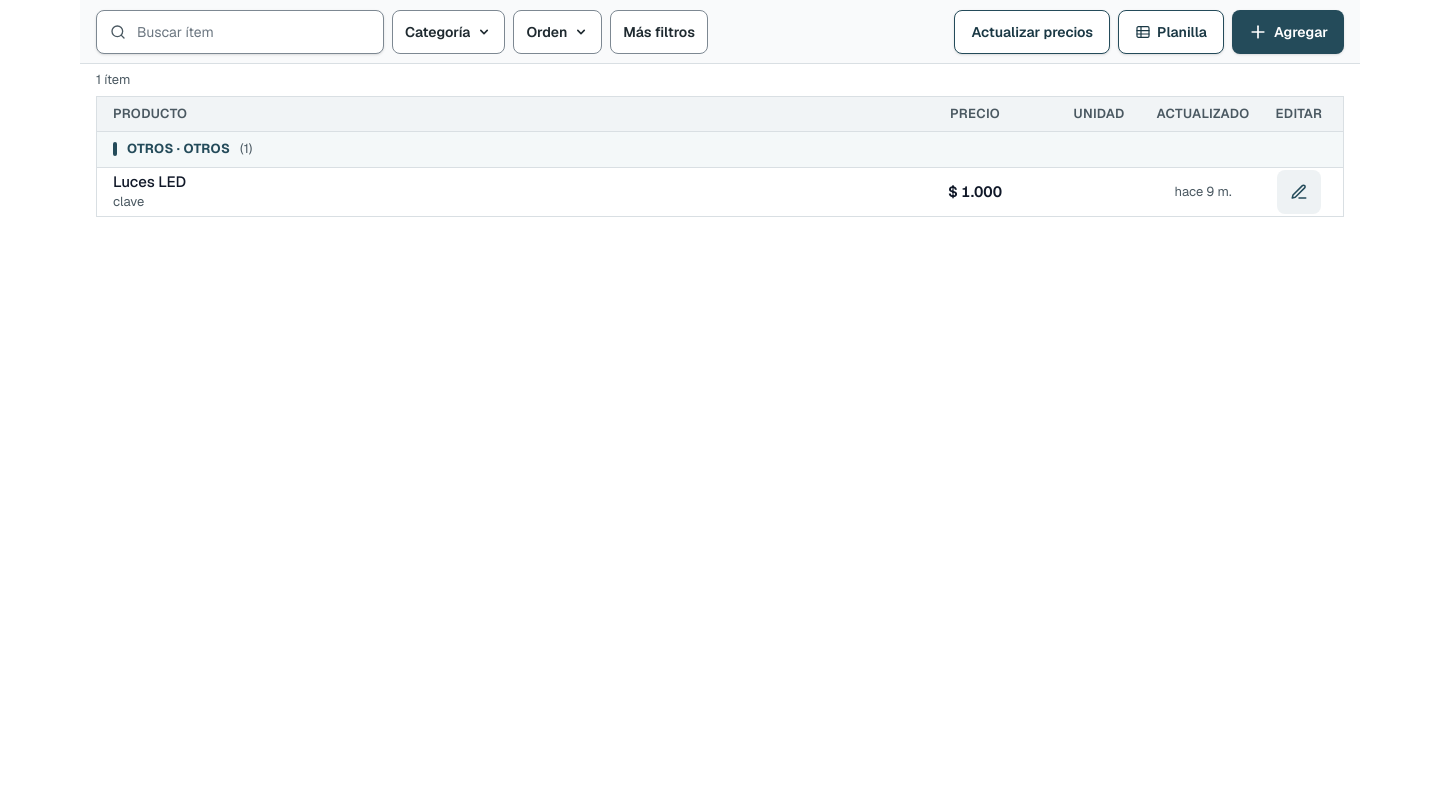
Test: CatalogoPage · alta de un ítem nuevo › crear un ítem lo agrega al listado con feedback de éxito
The image size is (1440, 810).
Step 1. Click the button with aria-label "Agregar ítem" → (1288, 32), box [1232, 10, 1344, 54]
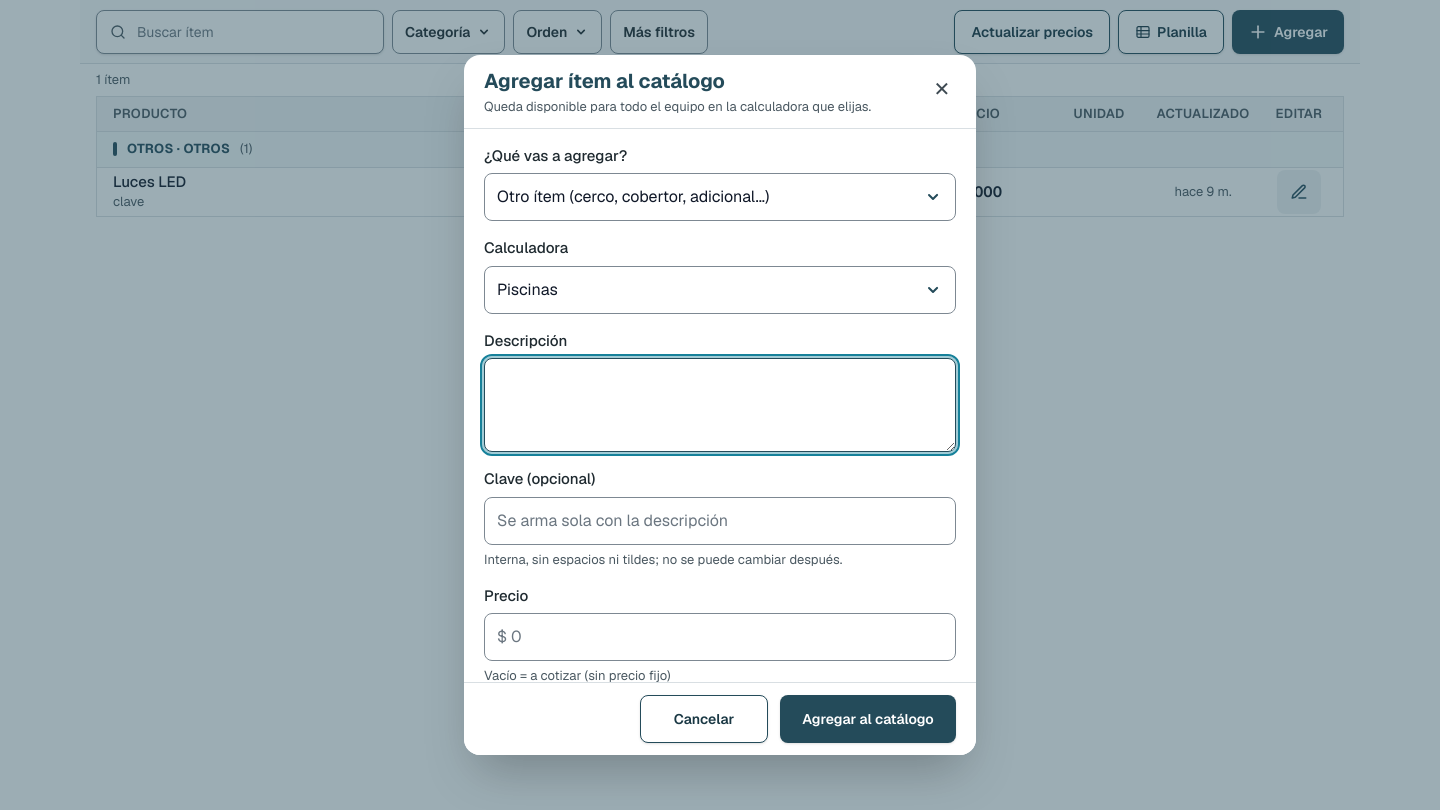
Step 2. Type "Cerco Reforzado" into the field labelled "Clave (opcional)" → (720, 521), box [484, 497, 956, 545]
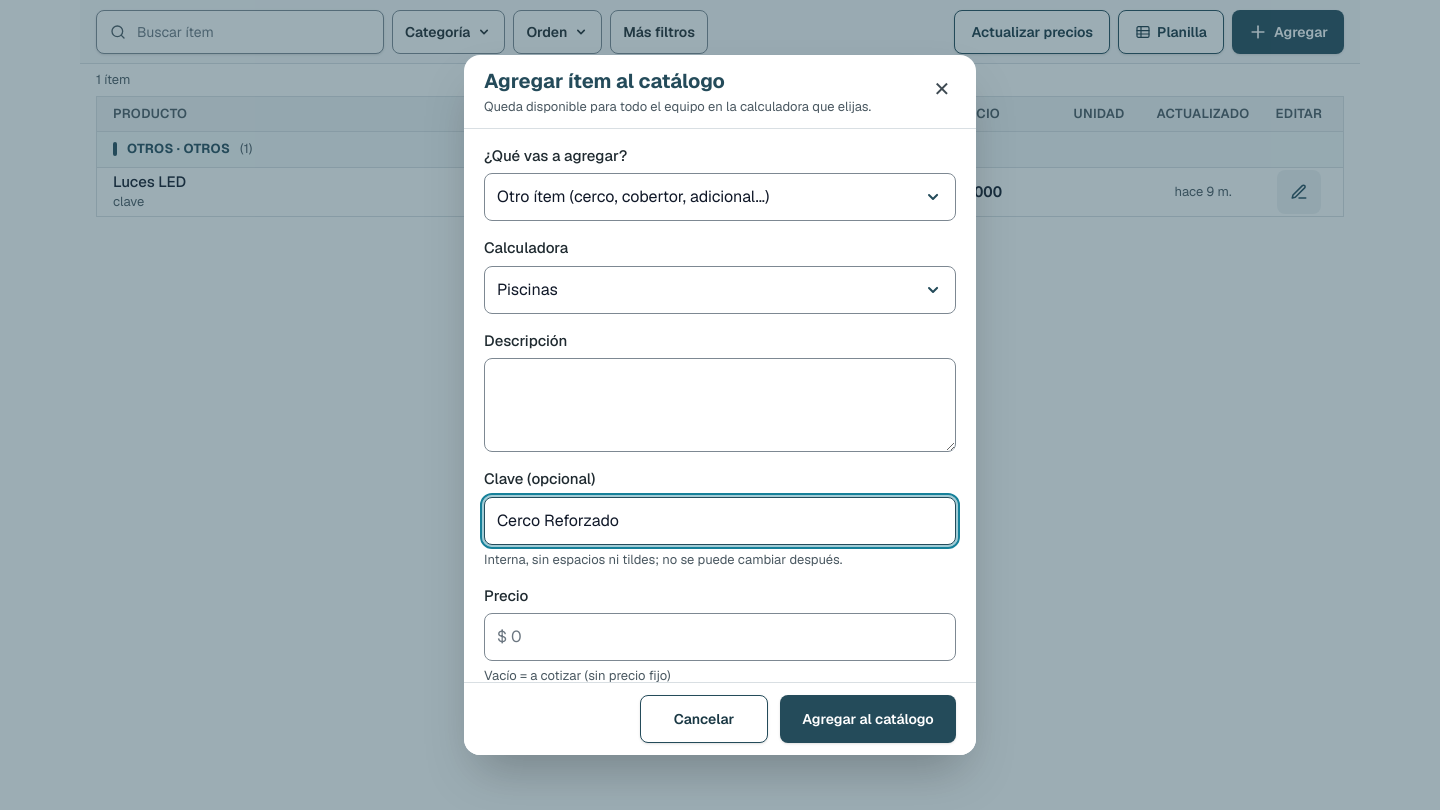
Step 3. Type "Cerco reforzado" into the text box labelled "Descripción" → (720, 405), box [484, 358, 956, 452]
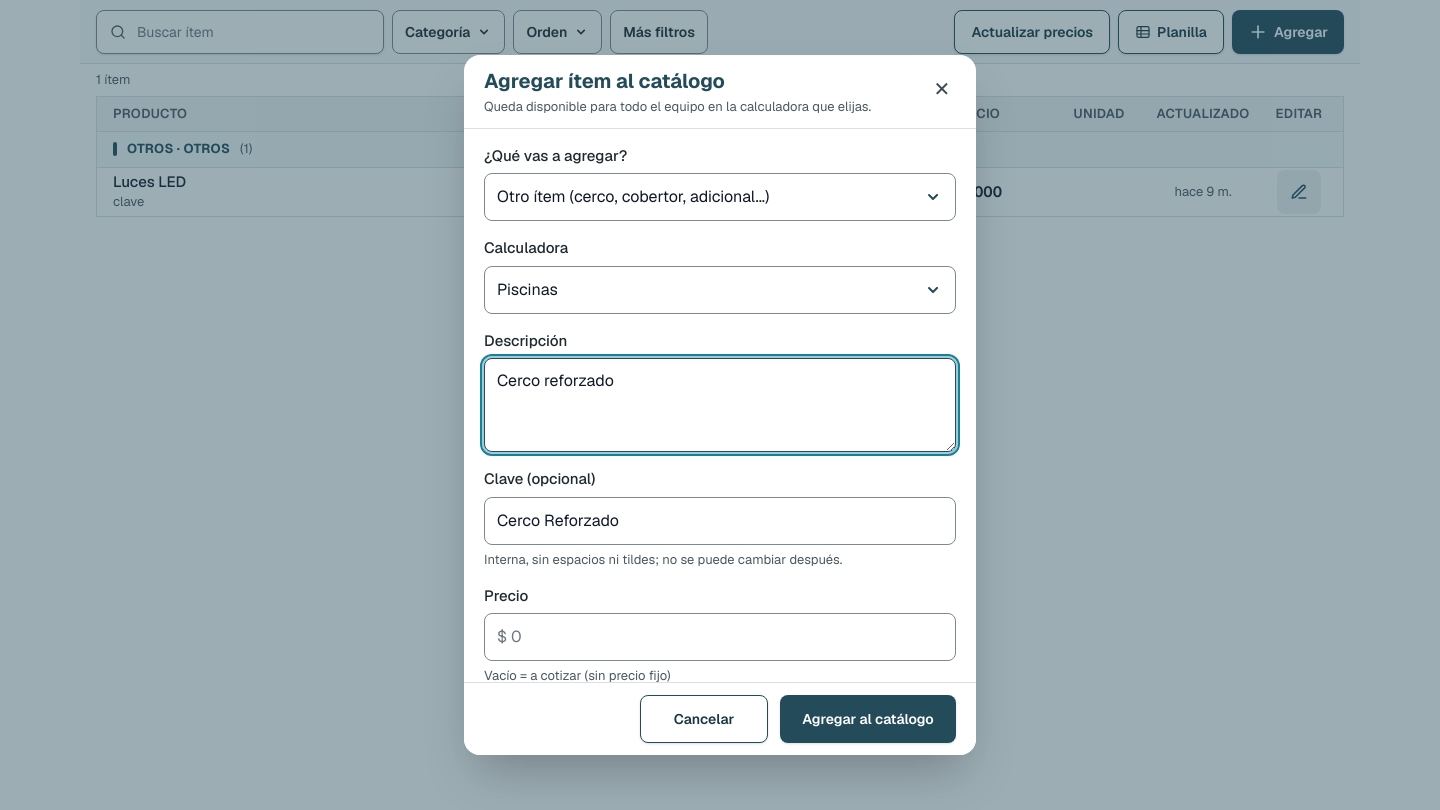
Step 4. Click the button "Agregar al catálogo" → (868, 719), box [780, 695, 956, 743]
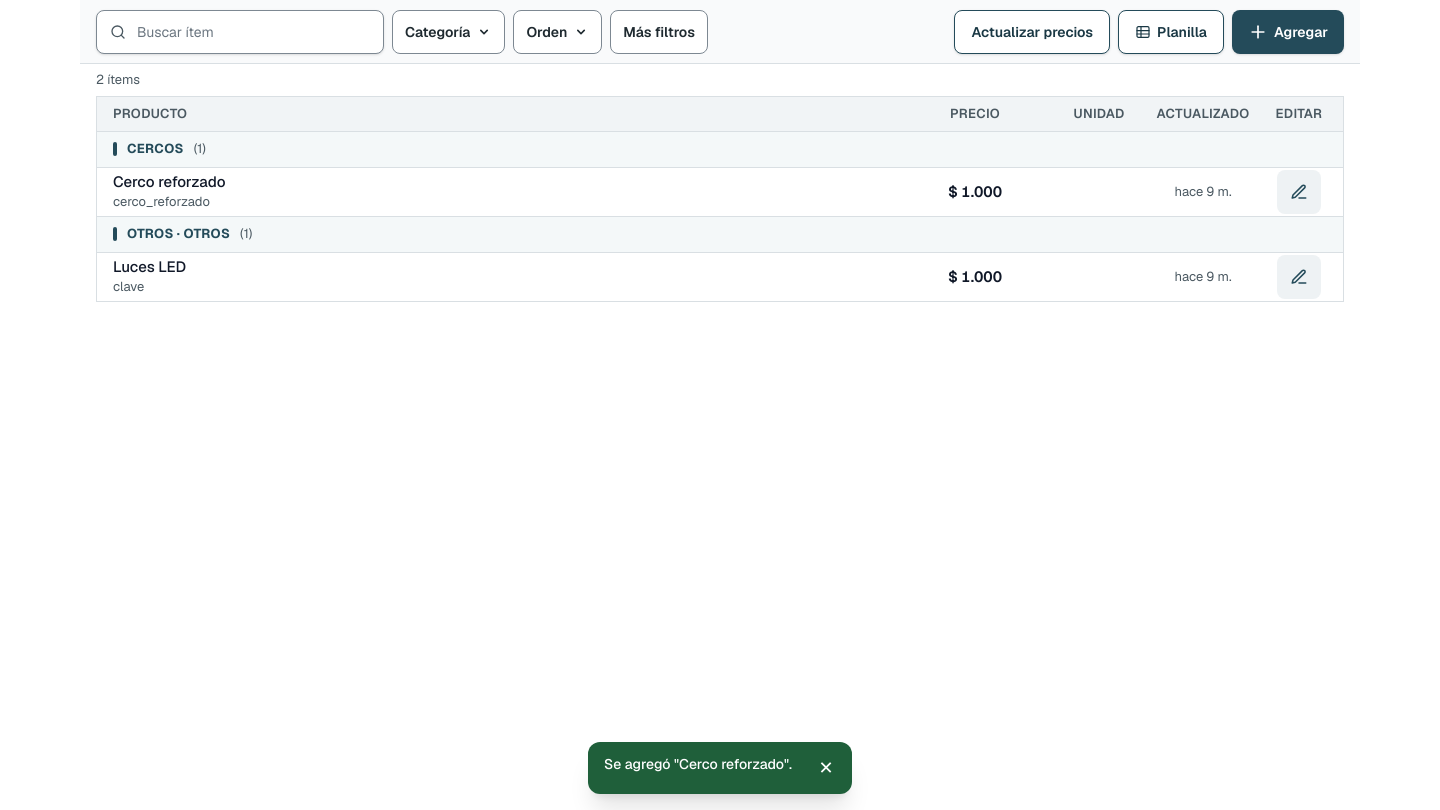
Now the dialog is gone
Now the text "Cerco reforzado" is shown, box [113, 172, 226, 190]
Now the text "Se agregó \"Cerco reforzado\"." is shown, box [604, 754, 792, 774]
